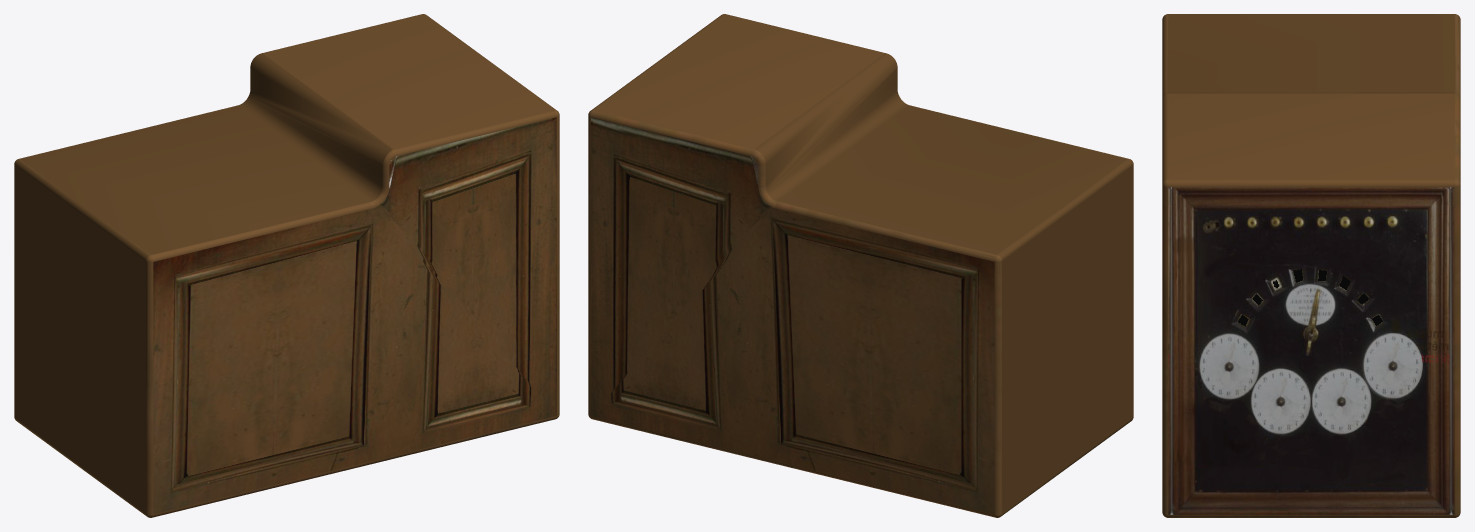
The model's file is boitier.dae.
3 views of the same model, side by side, from view 1: azimuth 30°, elevation 25°; view 2: azimuth 150°, elevation 25°; view 3: azimuth 270°, elevation 25° (orthographic). The views are drawn at different scales.
Parts seen in each view (by area): view 1: Body1.001; view 2: Body1.001; view 3: Body1.001.
Part boxes in pixels (<box>): Body1.001: <box>14,14,559,517</box>; Body1.001: <box>588,14,1133,517</box>; Body1.001: <box>1162,14,1460,517</box>.
Bounding box in the file's own units: 14 × 8 × 10.
Materials: 3 (2 with a texture image).
